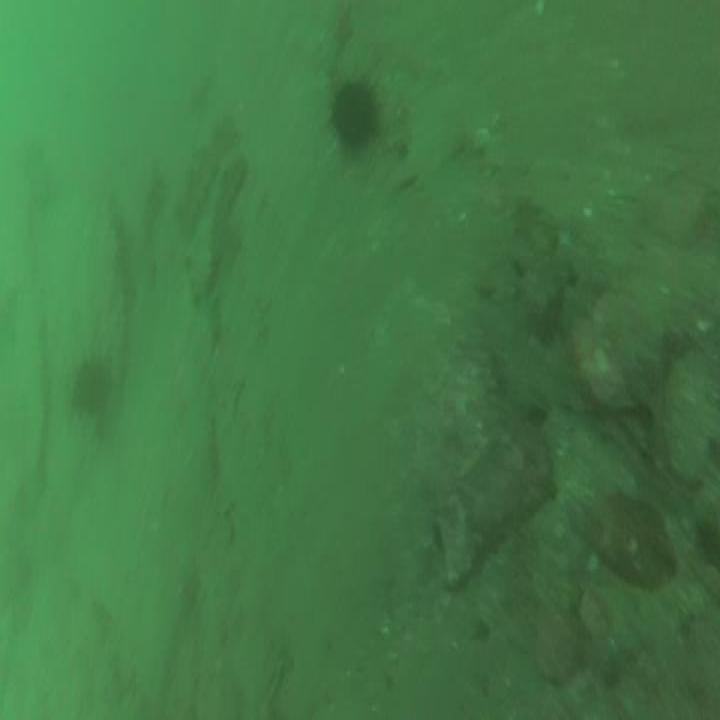echinus: (332, 85, 378, 144), (71, 370, 110, 414)
